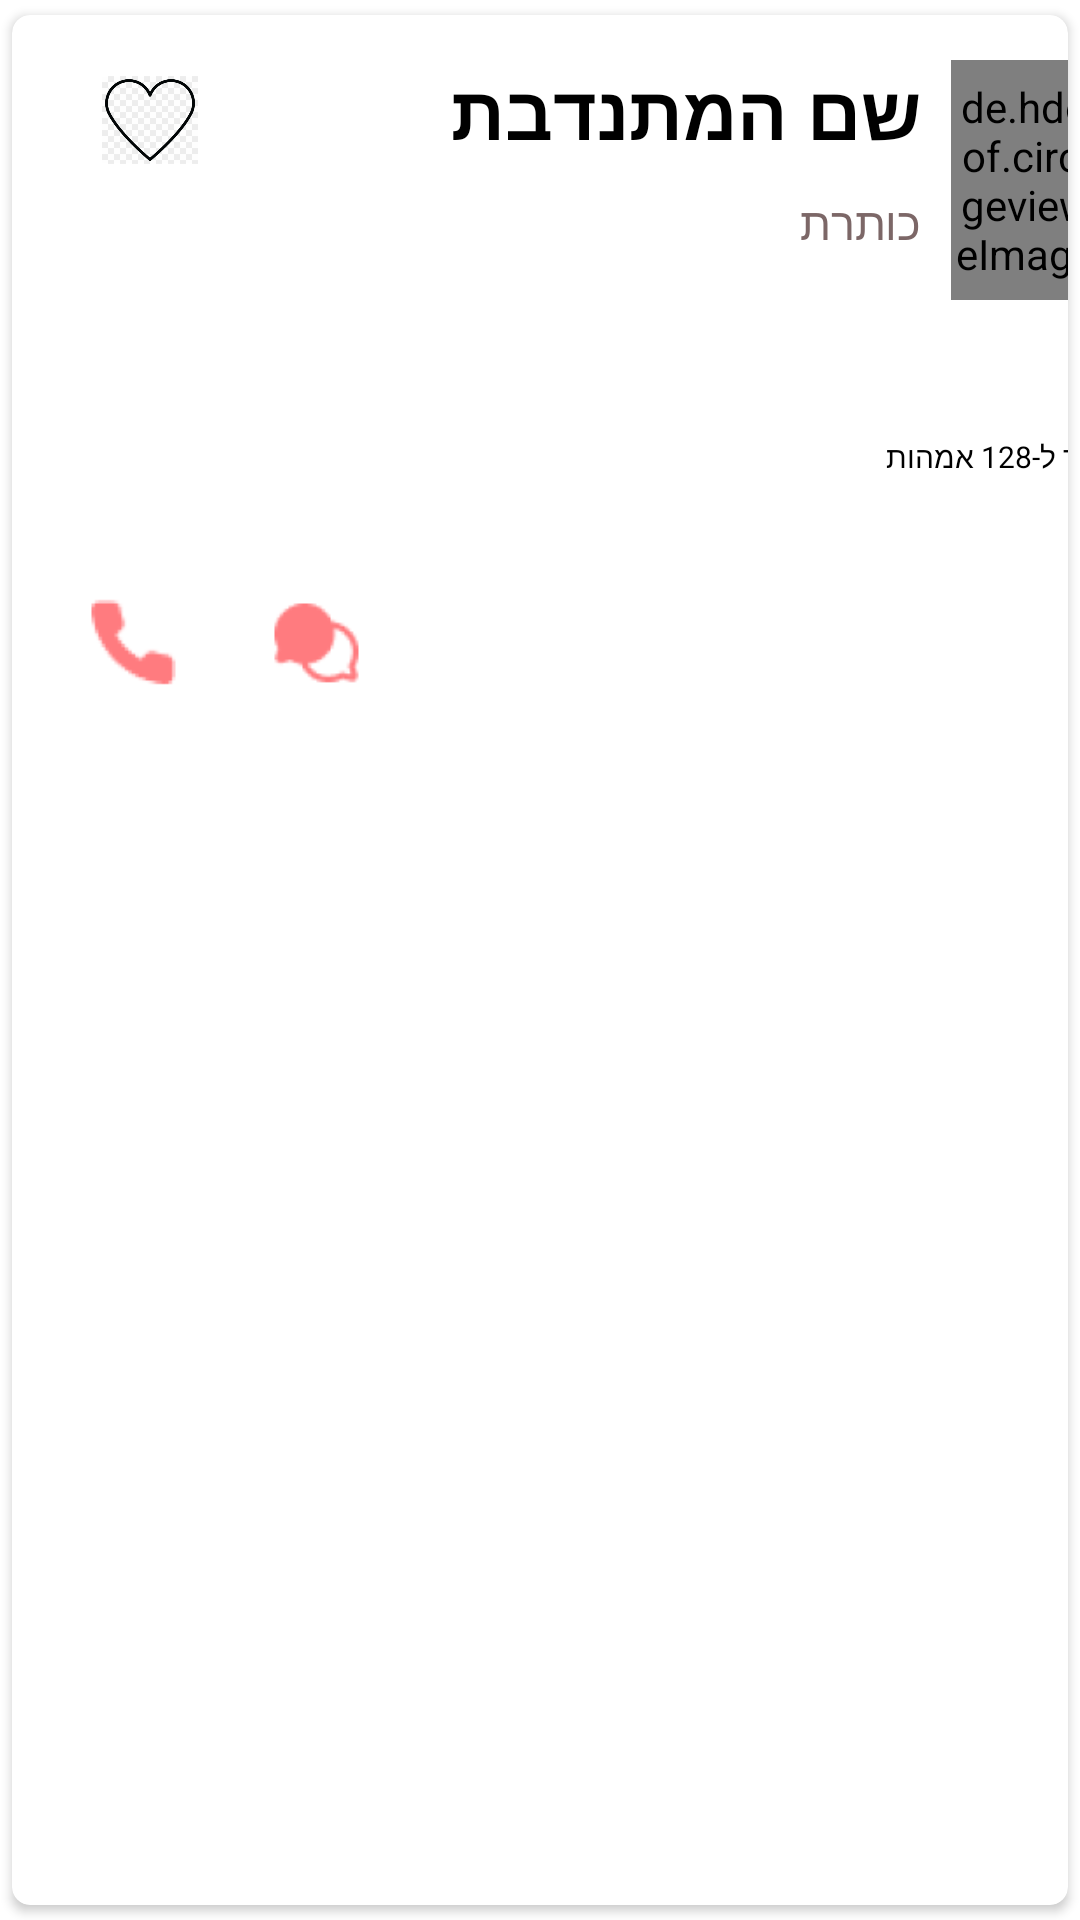

Screen size 1080px x 1920px. Icon name, then its center in pixels as point (x, y):
call: point (133, 642)
chat: point (316, 643)
like picture empty: point (150, 120)
